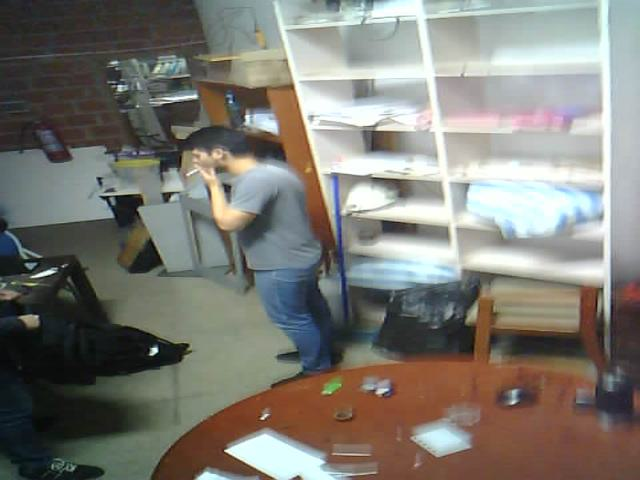person: (165, 102, 366, 409), (2, 196, 121, 480)
